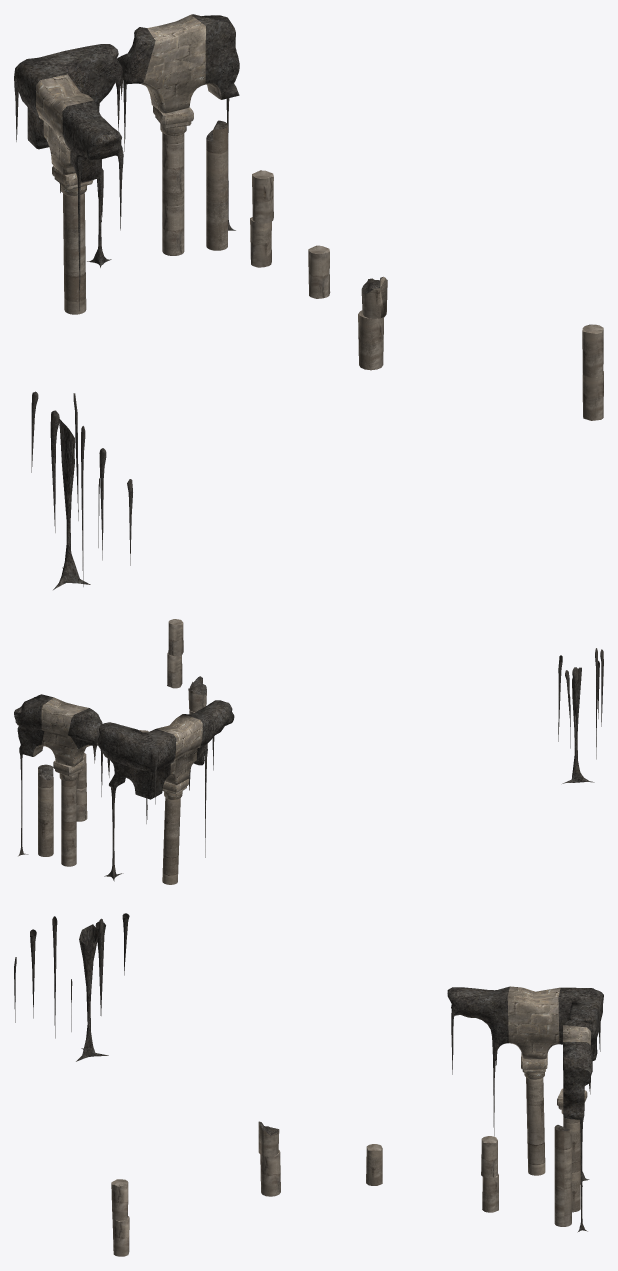
3 renders of one model, top to bottom at view 1: azimuth 30°, elevation 25°; view 2: azimuth 150°, elevation 25°; view 3: azimuth 270°, elevation 25°, orthographic. The views are drawn at different scales.
Visible parts, largest first — view 1: Material_#29, Material_#32, Material_#28; view 2: Material_#29, Material_#32, Material_#28; view 3: Material_#32, Material_#29, Material_#28.
Part boxes in pixels (x1,y1,x2,y2): Material_#29: [16, 14, 239, 198]; Material_#32: [63, 126, 603, 420]; Material_#28: [14, 23, 387, 589]; Material_#29: [18, 694, 234, 806]; Material_#32: [38, 619, 206, 884]; Material_#28: [14, 648, 603, 881]; Material_#32: [111, 1077, 580, 1256]; Material_#29: [447, 986, 603, 1119]; Material_#28: [14, 913, 603, 1232].
Size of the model in its own units: 49.4 by 19.36 by 55.32.
